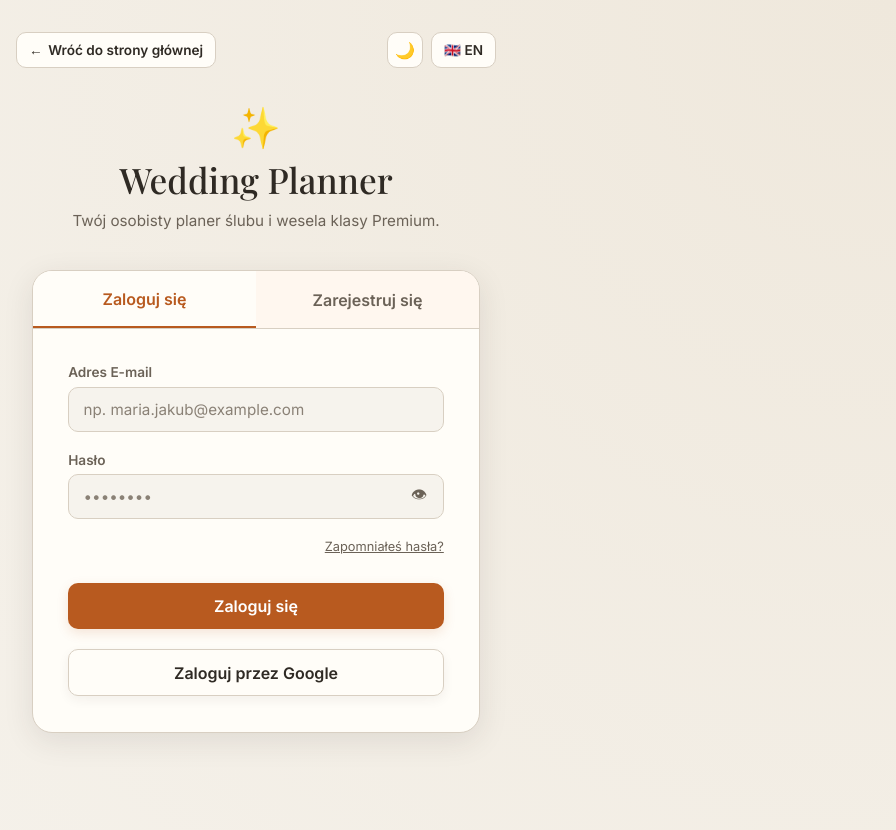
Test: LoginPage Component › renders validation error when email is incorrect
Note: Input invalid email and submit the form directly to bypass browser validation block
Type "invalid-email" into the field with placeholder "np. maria.jakub@example.com" at [256, 409], box left=68, top=387, right=444, bottom=432
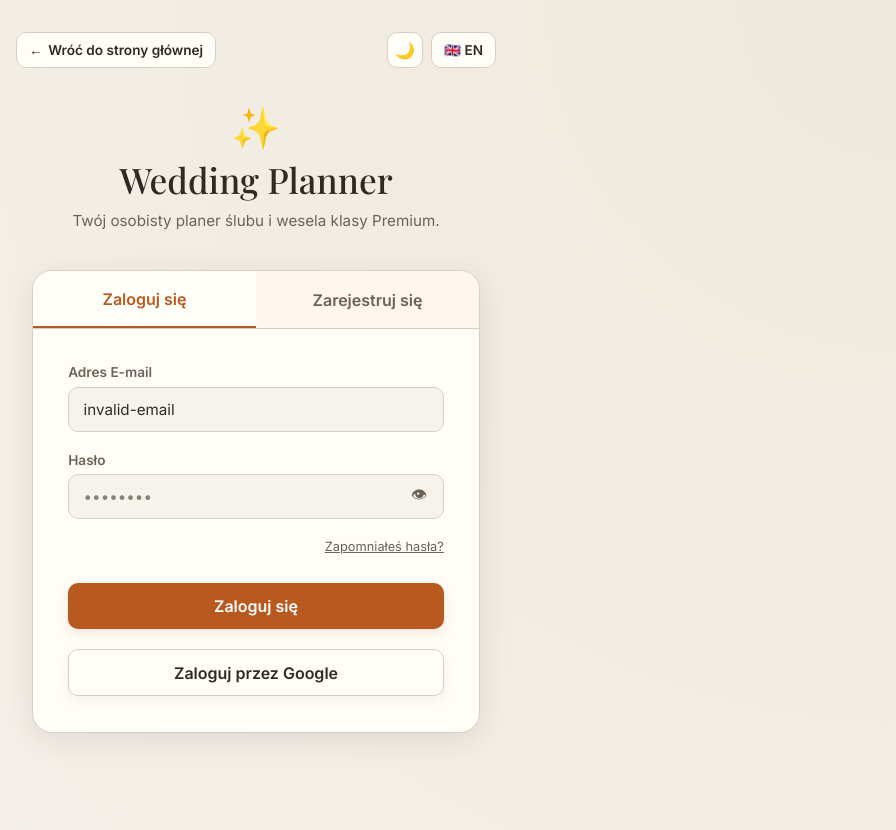
Submit the form, box left=68, top=364, right=444, bottom=696
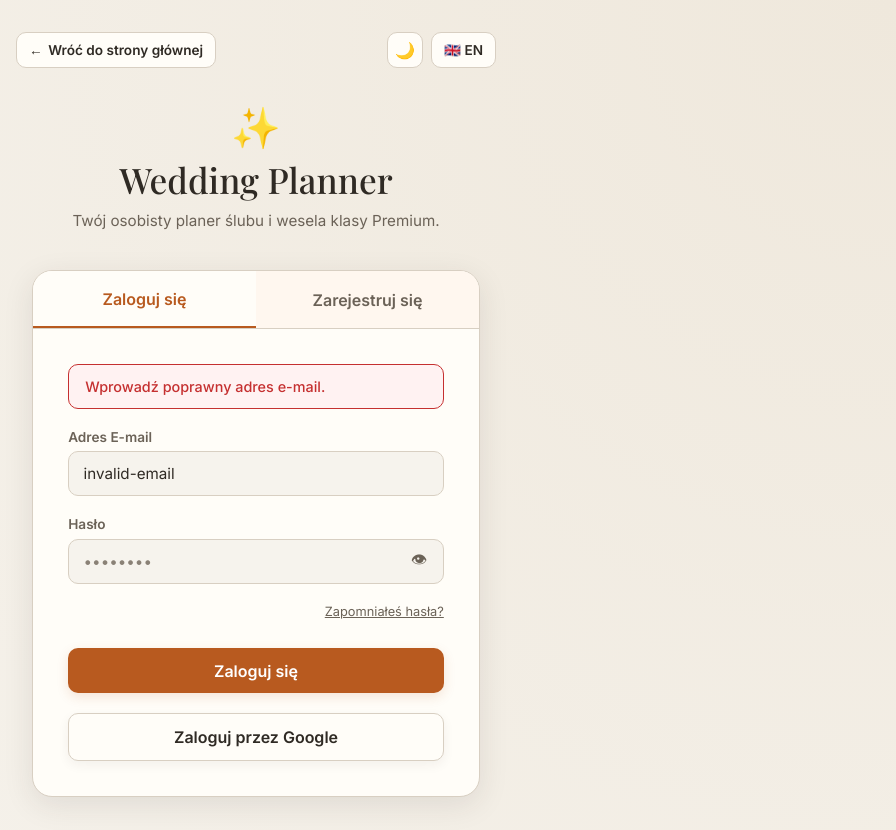
Check: the text "Wprowadź poprawny adres e-mail." is shown, box left=68, top=364, right=444, bottom=409
